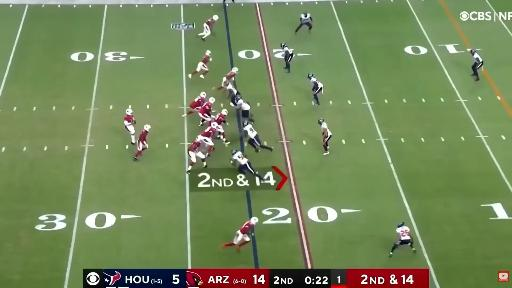Helmet: (186, 271, 203, 286), (250, 217, 258, 225), (234, 95, 241, 103), (199, 91, 207, 98), (211, 122, 219, 129), (227, 83, 234, 90), (126, 109, 133, 115), (221, 109, 227, 115), (144, 125, 150, 131), (232, 67, 238, 73), (280, 43, 286, 49), (318, 119, 324, 125), (397, 222, 404, 227), (196, 135, 201, 142), (470, 49, 475, 55), (303, 11, 308, 17), (307, 74, 313, 79), (232, 150, 238, 155), (209, 98, 215, 103), (310, 78, 317, 82), (206, 50, 211, 55), (213, 15, 218, 20), (243, 121, 248, 126)
Jersey: (232, 152, 248, 165), (396, 226, 410, 240), (243, 124, 257, 138), (190, 96, 205, 109), (283, 46, 294, 61), (201, 127, 216, 138), (240, 222, 252, 234), (200, 102, 211, 115), (321, 122, 331, 136), (311, 78, 323, 89), (188, 141, 200, 152), (214, 114, 225, 125), (227, 83, 237, 94), (124, 115, 134, 126), (139, 130, 147, 143), (206, 18, 215, 29), (301, 14, 312, 23), (473, 53, 482, 63), (201, 55, 210, 65), (240, 101, 250, 110), (226, 72, 235, 81)
Player: (223, 217, 258, 251), (231, 150, 264, 181), (243, 121, 273, 152), (390, 222, 415, 257), (230, 93, 254, 122), (196, 125, 217, 156), (187, 141, 207, 173), (212, 109, 230, 144), (188, 51, 211, 78), (134, 125, 150, 161), (183, 92, 206, 116), (198, 15, 218, 41), (318, 119, 332, 154), (308, 74, 323, 105), (217, 67, 238, 89), (199, 98, 215, 126), (280, 43, 294, 73), (470, 50, 483, 81), (295, 12, 313, 34), (124, 109, 135, 144), (226, 84, 241, 106)
